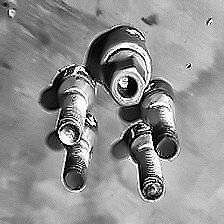tiny_holes: (5, 6, 19, 21), (203, 15, 215, 27), (185, 60, 196, 72)
